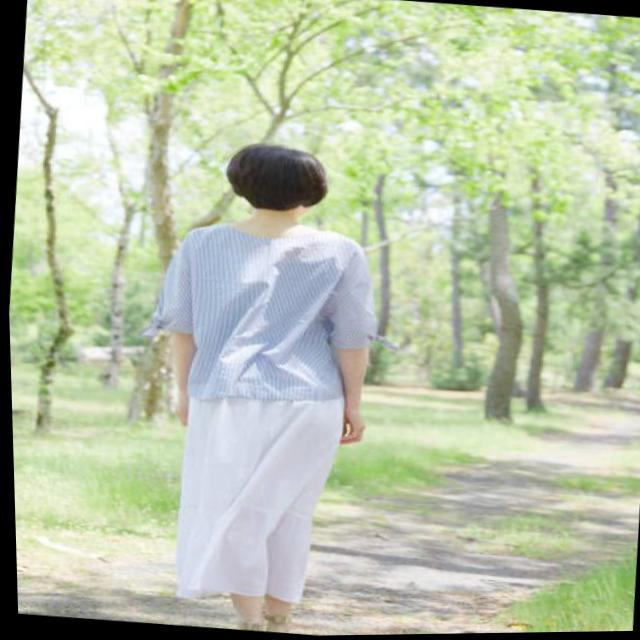no helmet: (184, 123, 352, 241)
